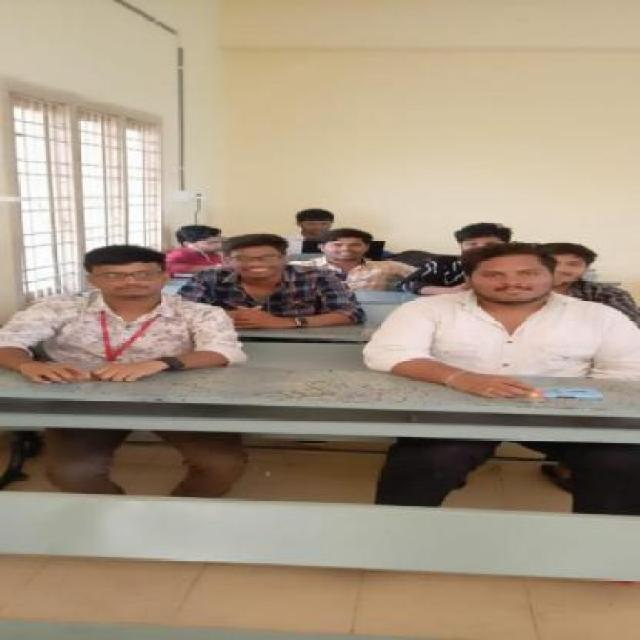good: (356, 240, 640, 417), (0, 232, 253, 406), (183, 233, 382, 337)
